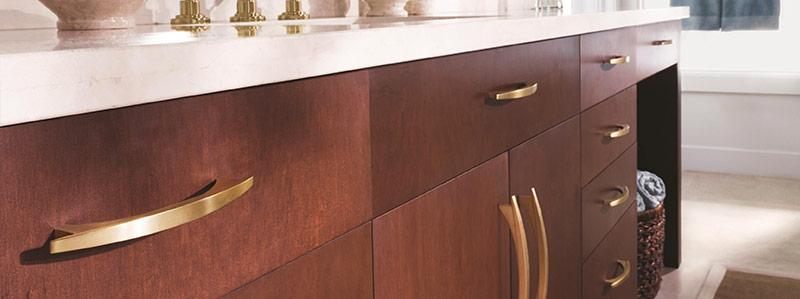cabinet_door: (24, 121, 367, 240), (376, 173, 505, 299), (504, 137, 585, 299), (385, 62, 586, 125), (574, 156, 644, 228), (578, 230, 642, 298), (574, 34, 636, 90), (584, 104, 639, 150), (632, 26, 682, 68)
handle: (40, 177, 262, 255), (489, 192, 536, 299), (520, 181, 556, 299), (485, 76, 545, 100), (606, 254, 634, 293), (594, 115, 632, 142), (602, 178, 636, 208), (603, 53, 635, 68), (645, 37, 676, 49)
